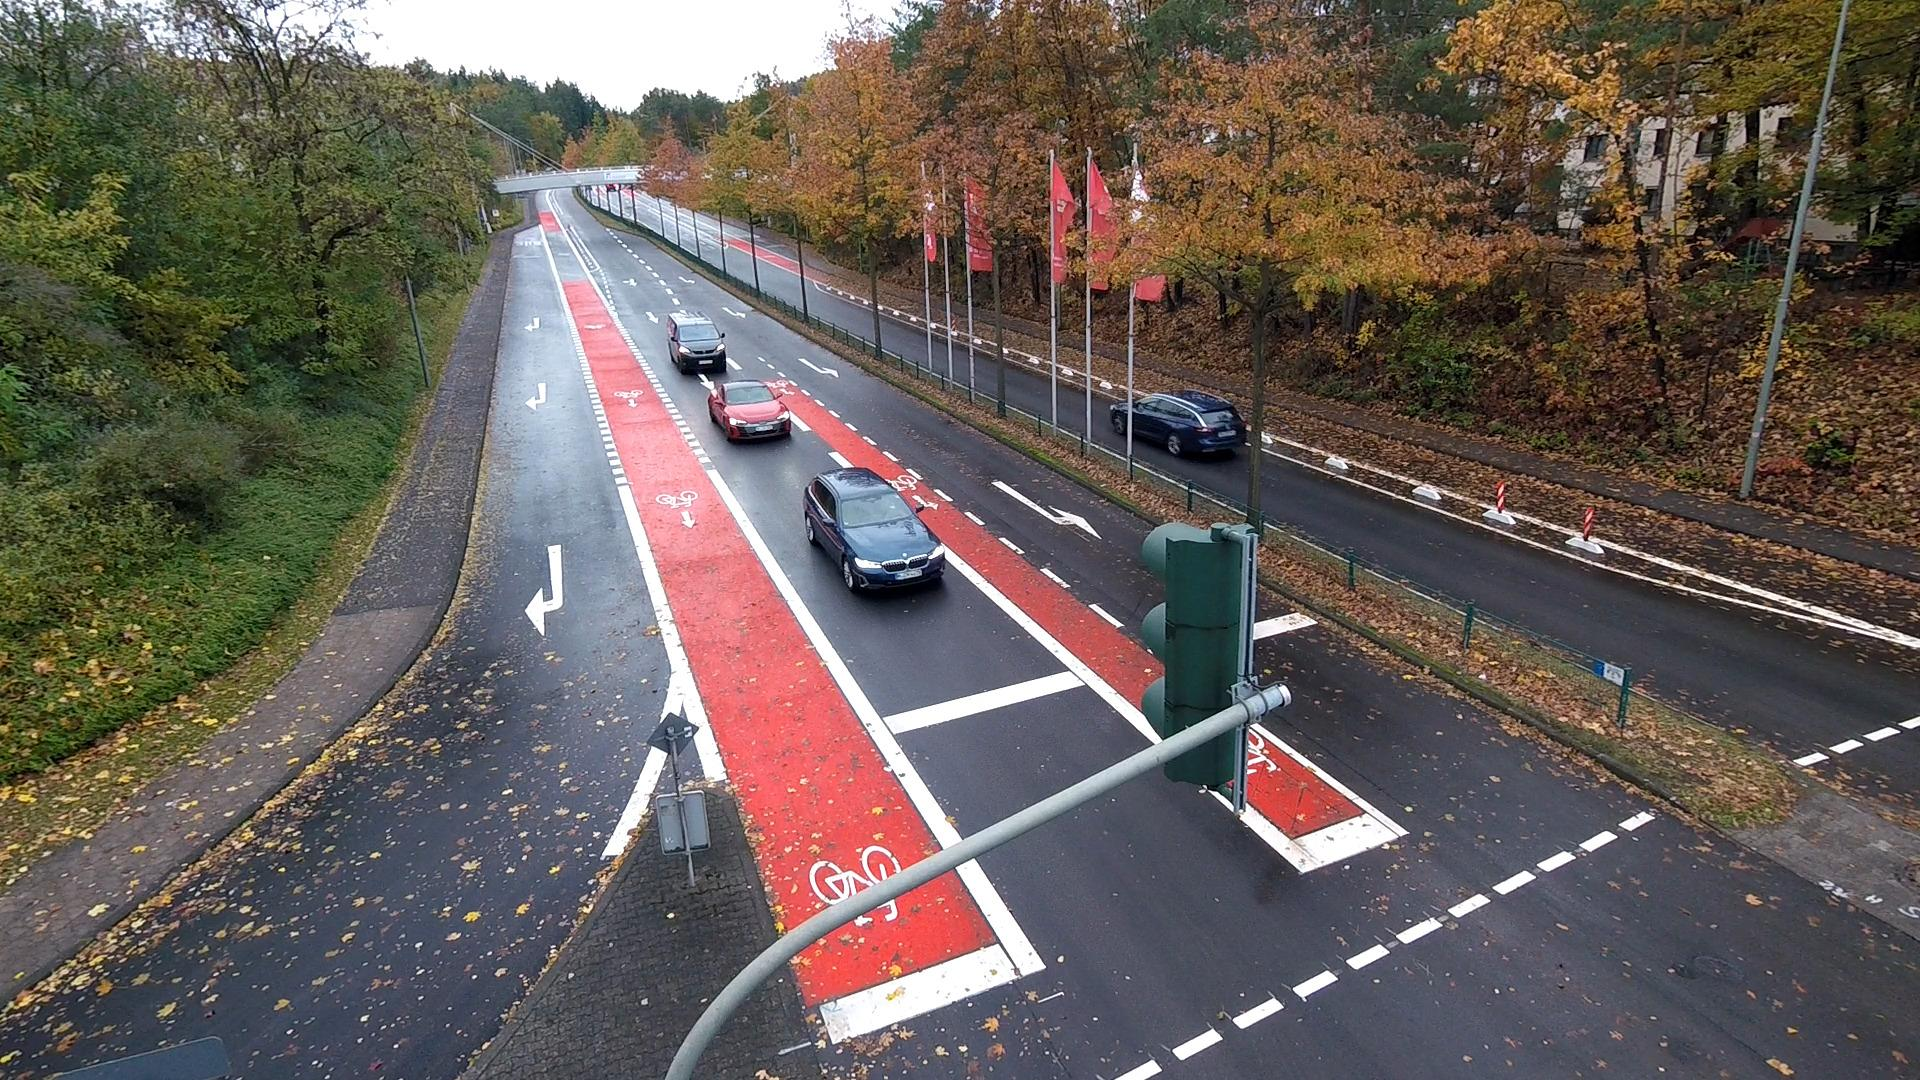bicycle-lane: (535, 187, 961, 938), (727, 353, 1166, 744), (1262, 400, 1920, 638), (789, 855, 1046, 1051), (1204, 721, 1410, 876), (1130, 364, 1251, 427), (803, 264, 873, 302), (1000, 327, 1054, 364), (878, 289, 926, 320), (756, 244, 800, 276), (1089, 352, 1129, 388), (1056, 343, 1087, 372), (971, 318, 997, 344), (724, 233, 752, 255), (696, 219, 721, 241), (634, 193, 661, 211), (949, 311, 967, 334), (931, 306, 948, 328), (661, 200, 676, 222), (678, 214, 696, 229)
car: (802, 467, 945, 592), (1133, 388, 1249, 456), (708, 378, 791, 444), (667, 310, 729, 378), (1109, 400, 1127, 435), (607, 182, 617, 193)
car-lane: (0, 224, 682, 1080), (808, 576, 1920, 1080), (554, 187, 1174, 839), (1261, 448, 1920, 833), (725, 332, 1141, 634), (1131, 435, 1250, 514), (804, 277, 876, 345), (1005, 359, 1052, 426), (880, 311, 928, 371), (1089, 388, 1127, 462), (757, 257, 804, 313), (1058, 376, 1088, 440), (752, 231, 800, 261), (725, 243, 757, 289), (973, 345, 1000, 400), (698, 229, 723, 272), (634, 199, 661, 236), (952, 339, 972, 388), (931, 332, 951, 380), (678, 220, 699, 257), (723, 220, 752, 243), (663, 214, 678, 247), (695, 211, 720, 229), (622, 190, 634, 219), (638, 190, 658, 202), (608, 195, 621, 212), (658, 198, 674, 210), (676, 208, 694, 219)
